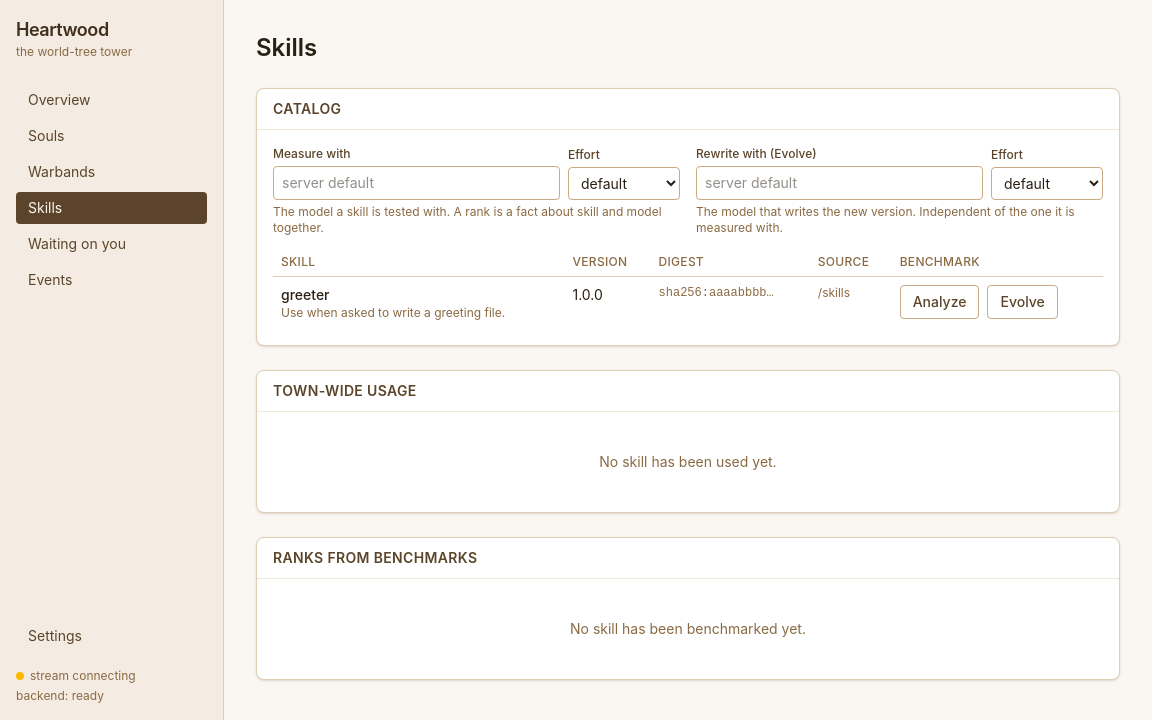
Scenario: pages › skills catalog actions › shows the daemon's refusal when benchmarks are not configured
Step 1. Click the button "Analyze" → (940,302), box left=900, top=285, right=980, bottom=319
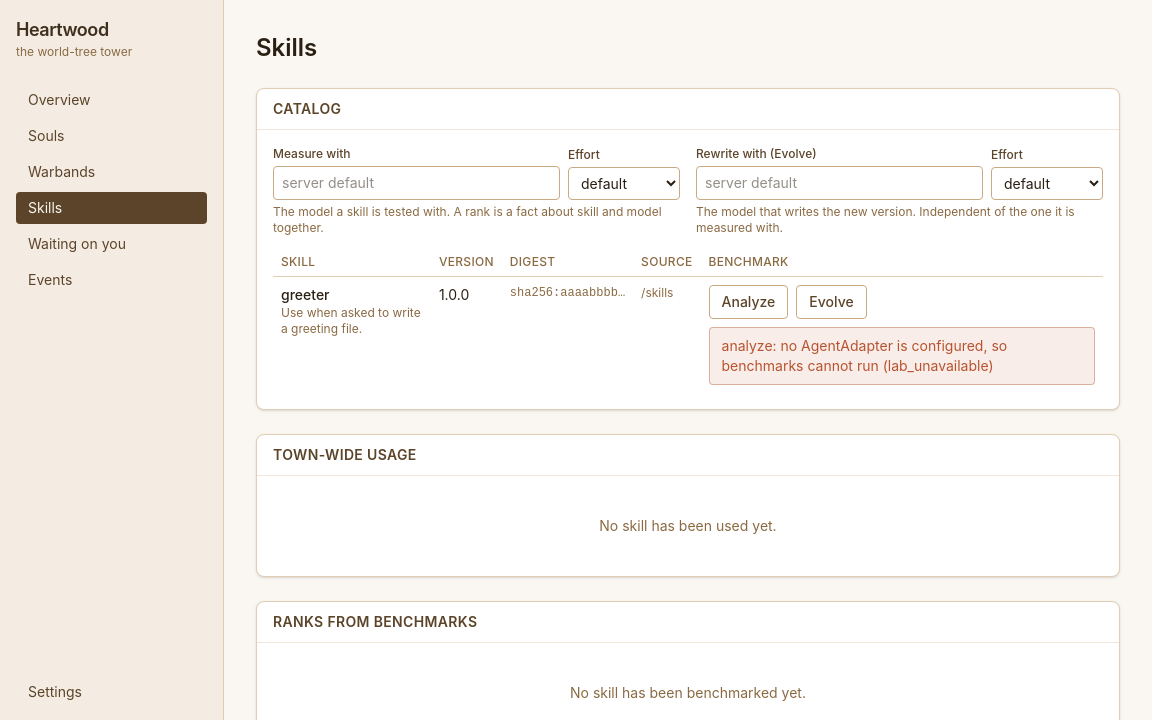
Check: the text "benchmarks cannot run (lab_unavailable)" is shown, box left=722, top=337, right=1007, bottom=374
